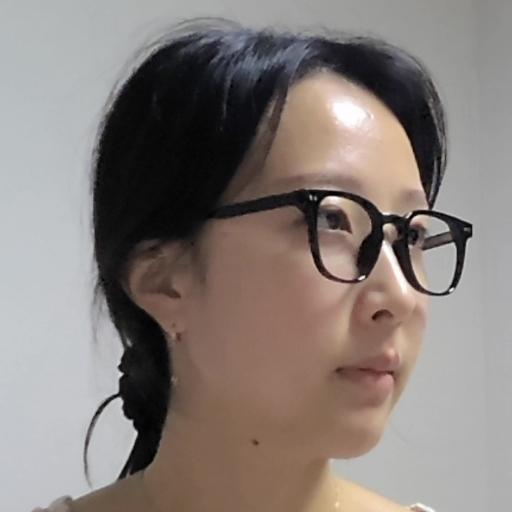no_glasses: (88, 20, 484, 486)
